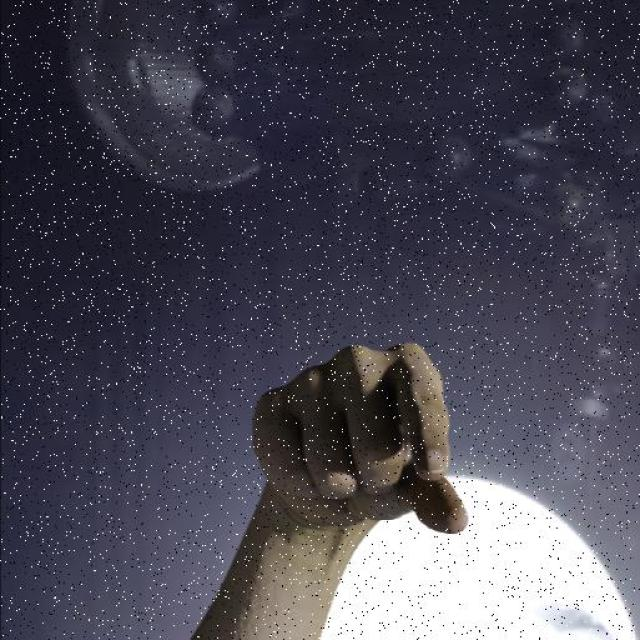Q: (243, 337, 473, 542)
